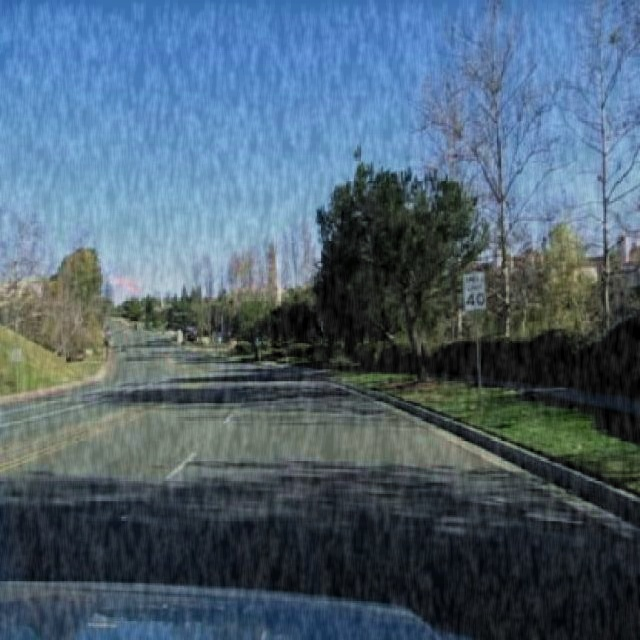speedLimit40: (463, 271, 487, 312)
